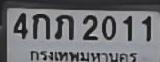0: (101, 14, 115, 39)
1: (141, 14, 150, 40), (122, 15, 131, 40)
2: (82, 14, 97, 39)
4: (12, 12, 27, 38)
A01: (32, 13, 49, 39)
A32: (54, 14, 73, 39)
BKK: (28, 49, 137, 62)
